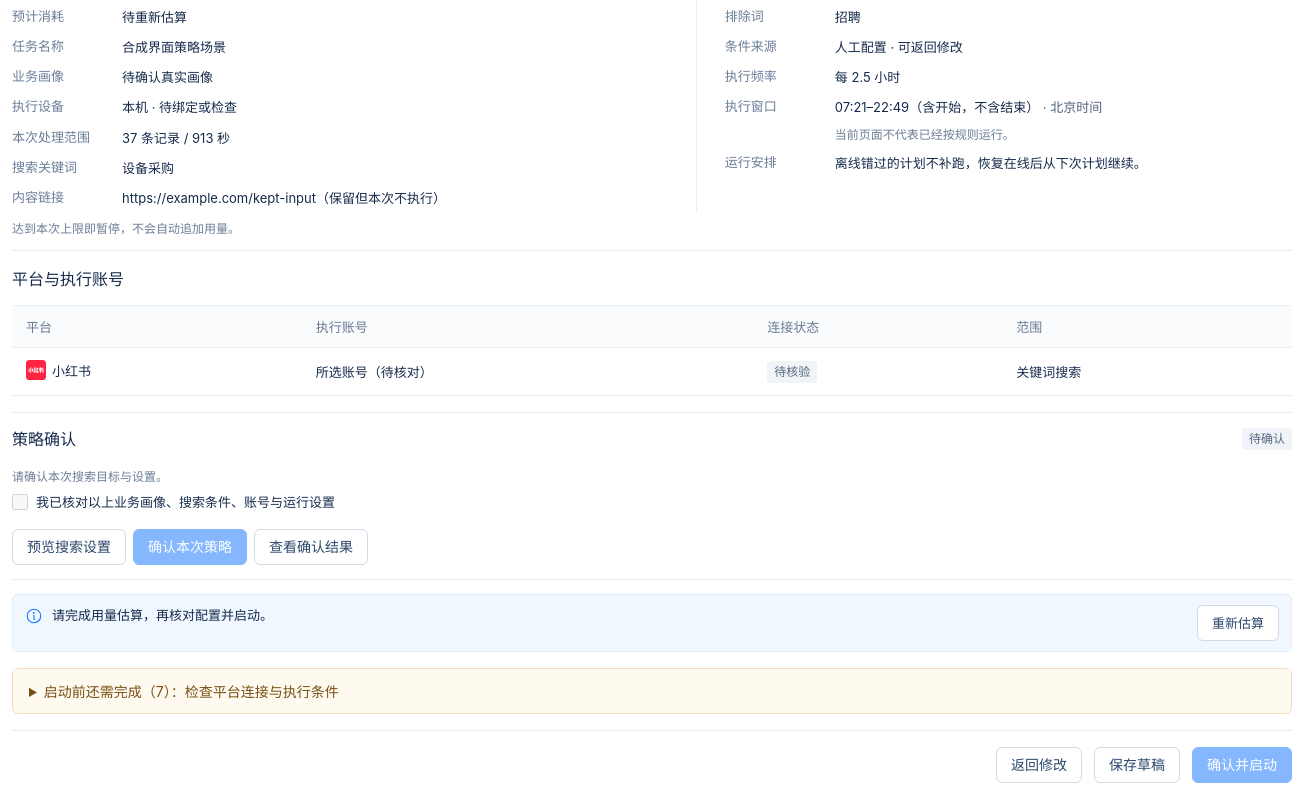
Test: TaskWizard strategy confirmation with the actual controller › shows all bound fields read-only, including inactive inputs for search
(page scrolled)
Click the button "预览搜索设置" at [69, 547], box [12,529,126,565]
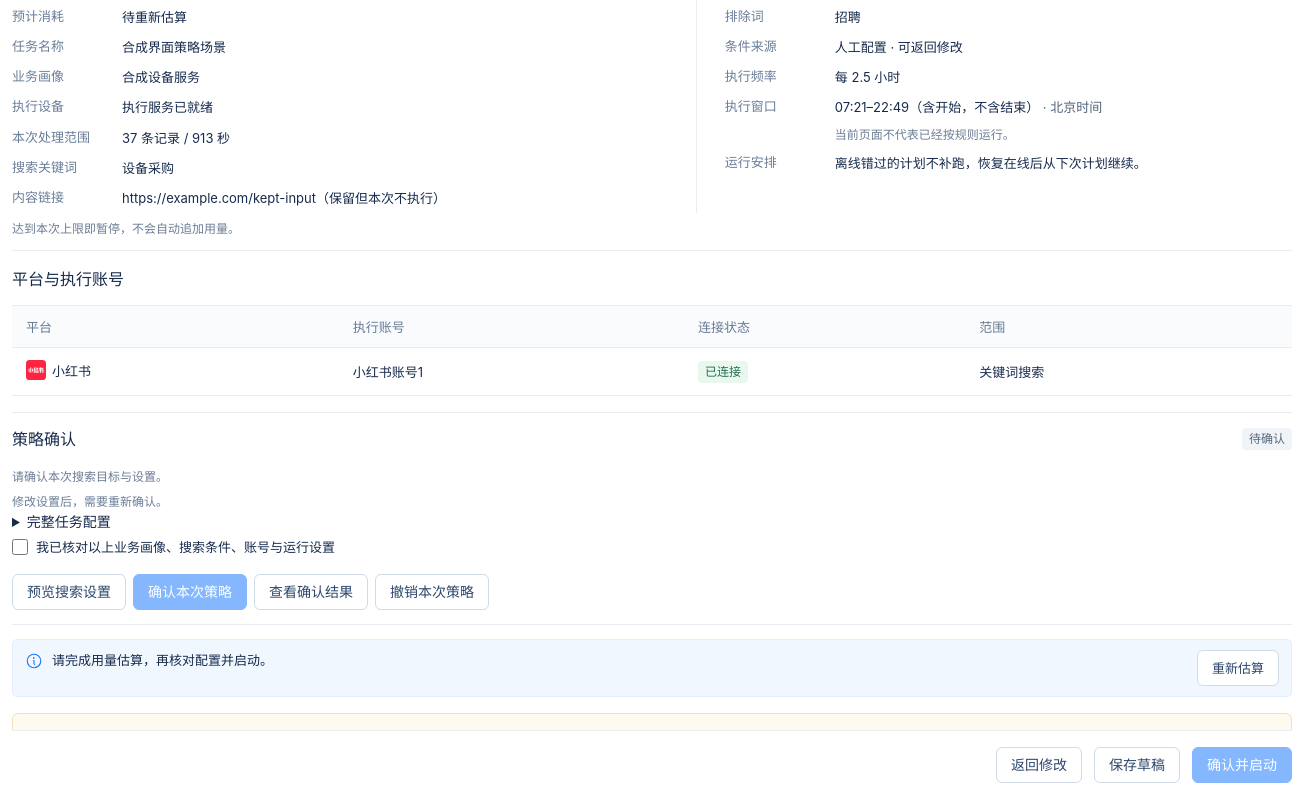
Expected: the heading "完整任务配置" is shown
Click the heading "完整任务配置" at [69, 522], box [27,513,111,530]
(page scrolled)
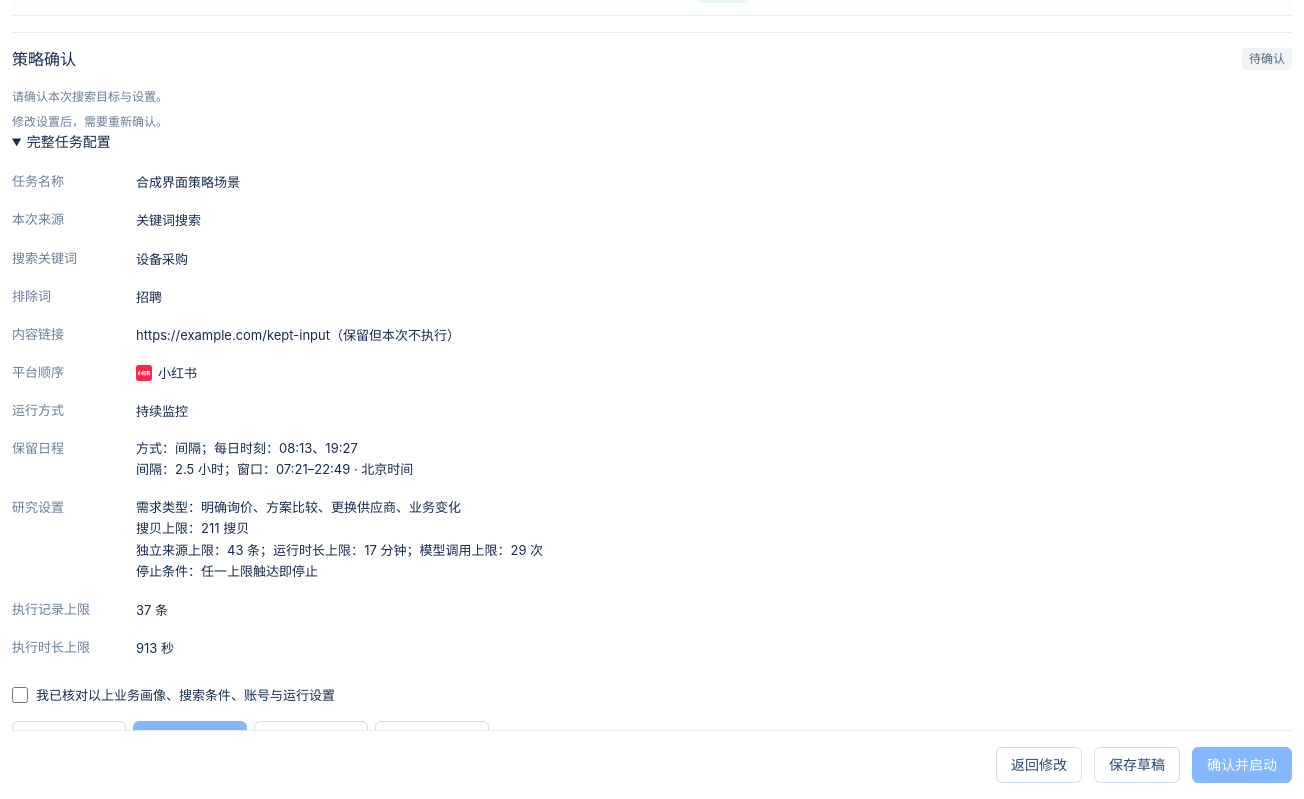
Expected: the text "完整任务配置" is shown, [27,133,111,150]
Expected: the text "完整任务配置" shows "合成界面策略场景", [136,174,240,190]
Expected: the text "完整任务配置" shows "设备采购", [136,250,188,266]
